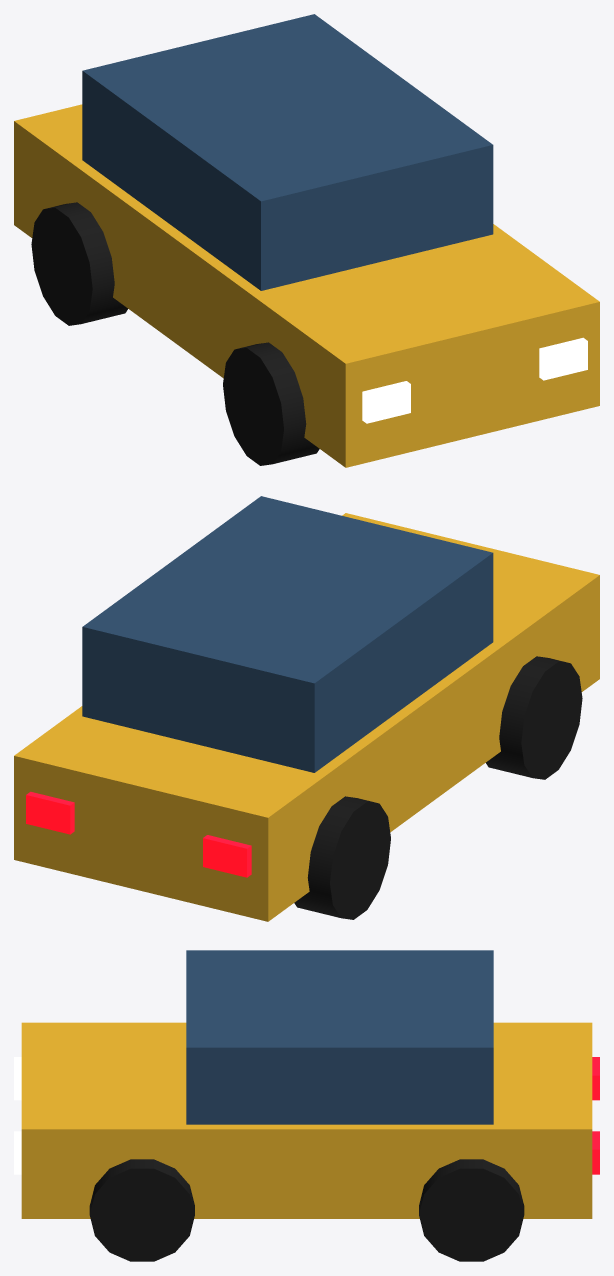
File: taxi_01.glb
3 renders of one model, top to bottom at view 1: azimuth 30°, elevation 25°; view 2: azimuth 150°, elevation 25°; view 3: azimuth 270°, elevation 25°, orthographic. The views are drawn at different scales.
Bounding box in the file's own units: 2.7 × 2.01 × 5.34.
